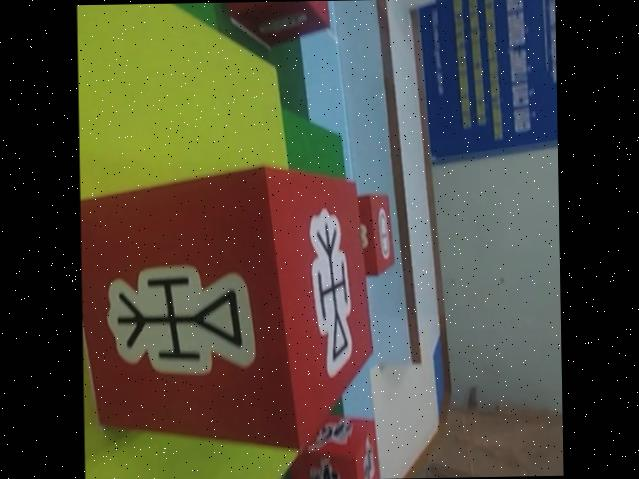R1: (289, 411, 383, 479)
R2 Real: (79, 161, 379, 455), (218, 0, 333, 47)
